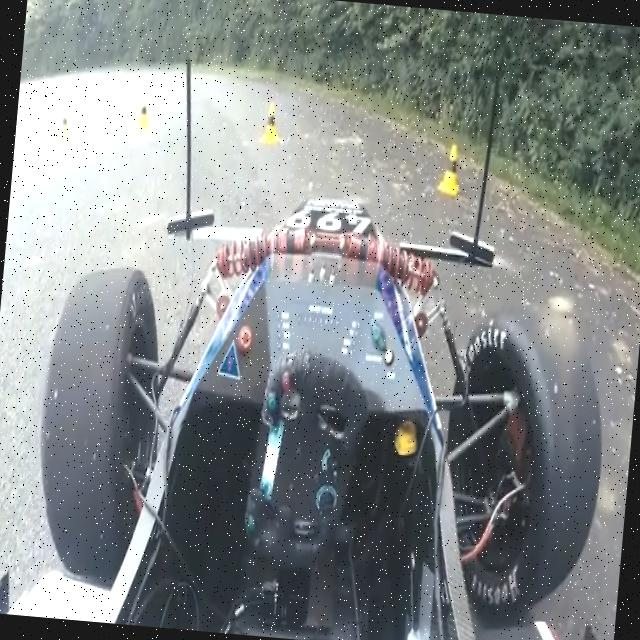yellow_cone: (435, 132, 466, 192), (257, 98, 281, 158), (134, 88, 162, 130)
